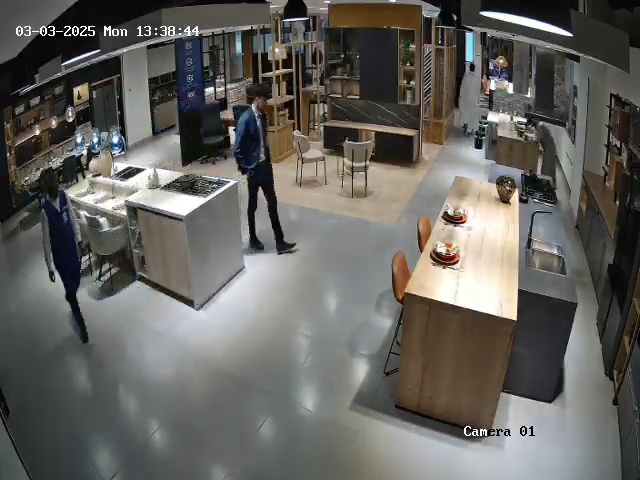employee: (233, 83, 297, 255), (38, 168, 90, 345)
male: (456, 50, 484, 146)
